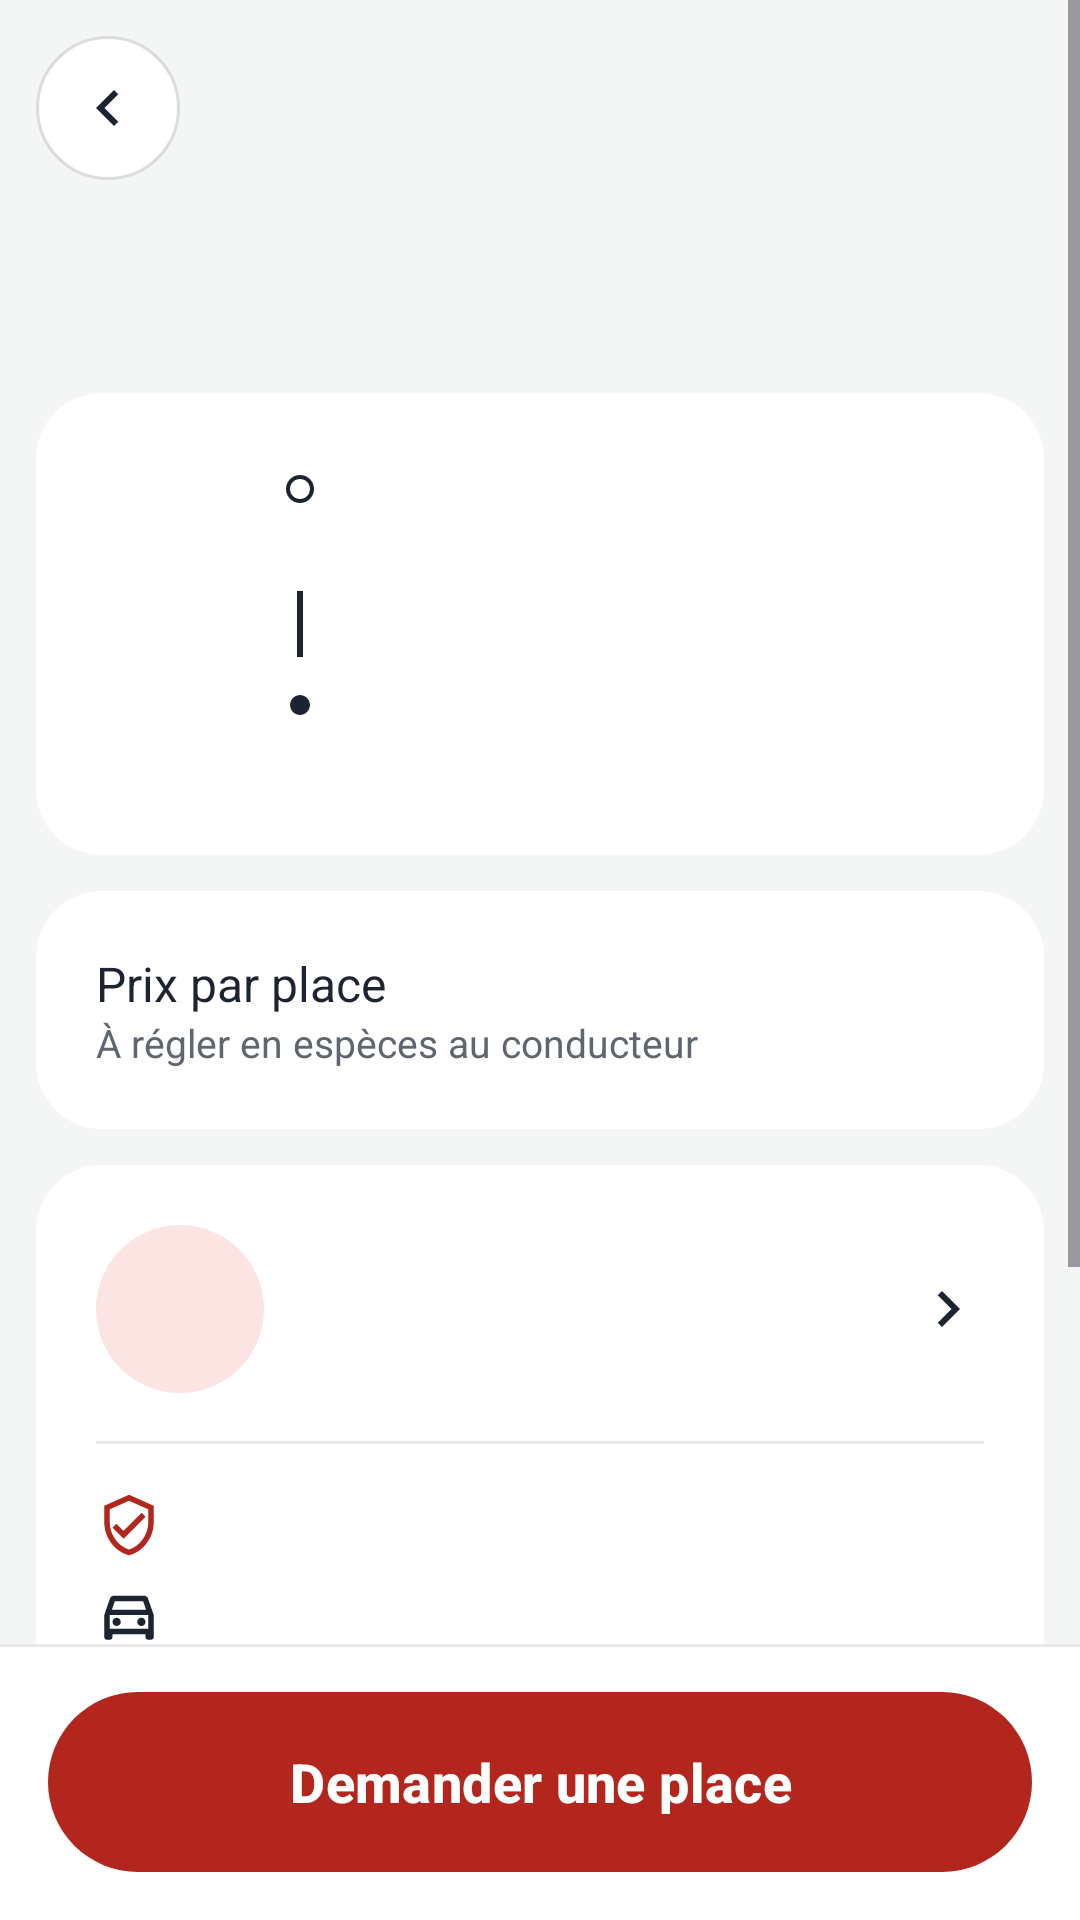

Named icons in this screenshot (1080 × 1920) and their centers, point (x, y):
Départ: point (300, 489)
Retour: point (108, 108)
Voir: point (949, 1309)
Véhicule: point (129, 1617)
Vérifié: point (129, 1525)
